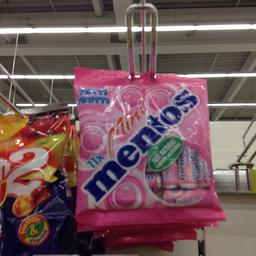candy: (76, 65, 222, 226), (0, 110, 71, 247)
